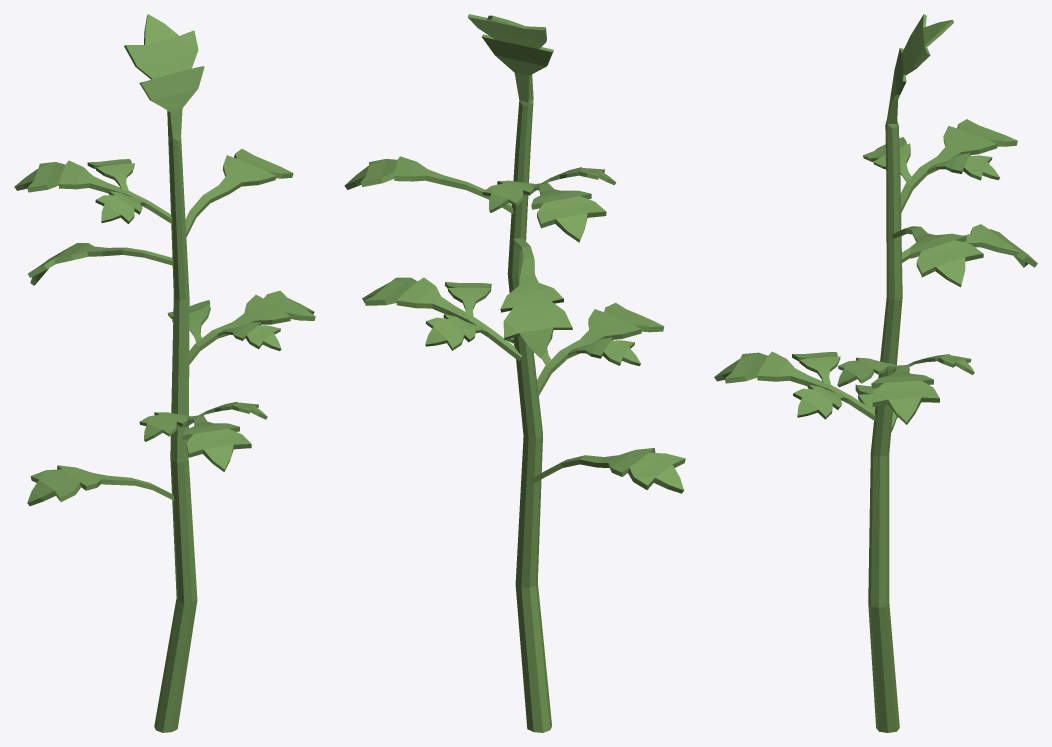
Rendered from Tomato_3.glb.
The picture shows the model from 3 angles, left to right: view 1: azimuth 30°, elevation 25°; view 2: azimuth 150°, elevation 25°; view 3: azimuth 270°, elevation 25°; orthographic projection. The views are drawn at different scales.
Parts seen in each view (by area): view 1: Tomato_3; view 2: Tomato_3; view 3: Tomato_3.
Part boxes in pixels (x1,y1,x2,y2): Tomato_3: (14,14,315,732); Tomato_3: (344,14,685,732); Tomato_3: (714,14,1037,732).
Bounding box in the file's own units: 0.6409 × 1.43 × 0.5863.
